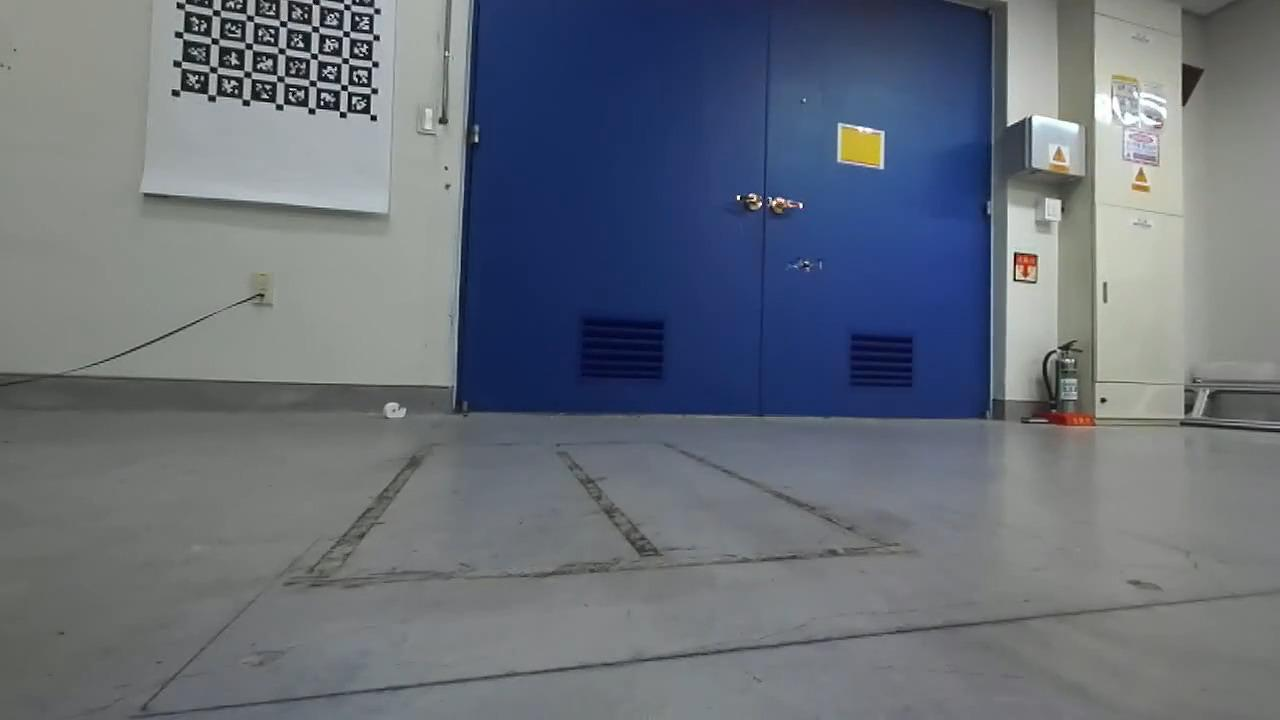crazyflie: (782, 255, 826, 276)
